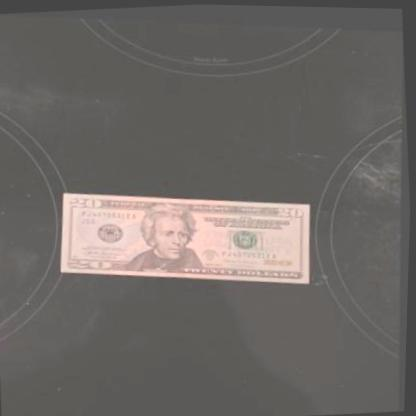twenty-front: (58, 174, 319, 293)
